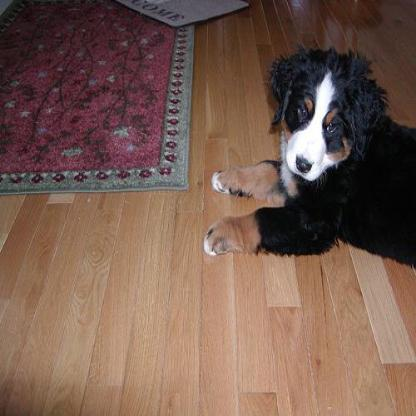Bernese_mountain_dog: (203, 45, 414, 274)
